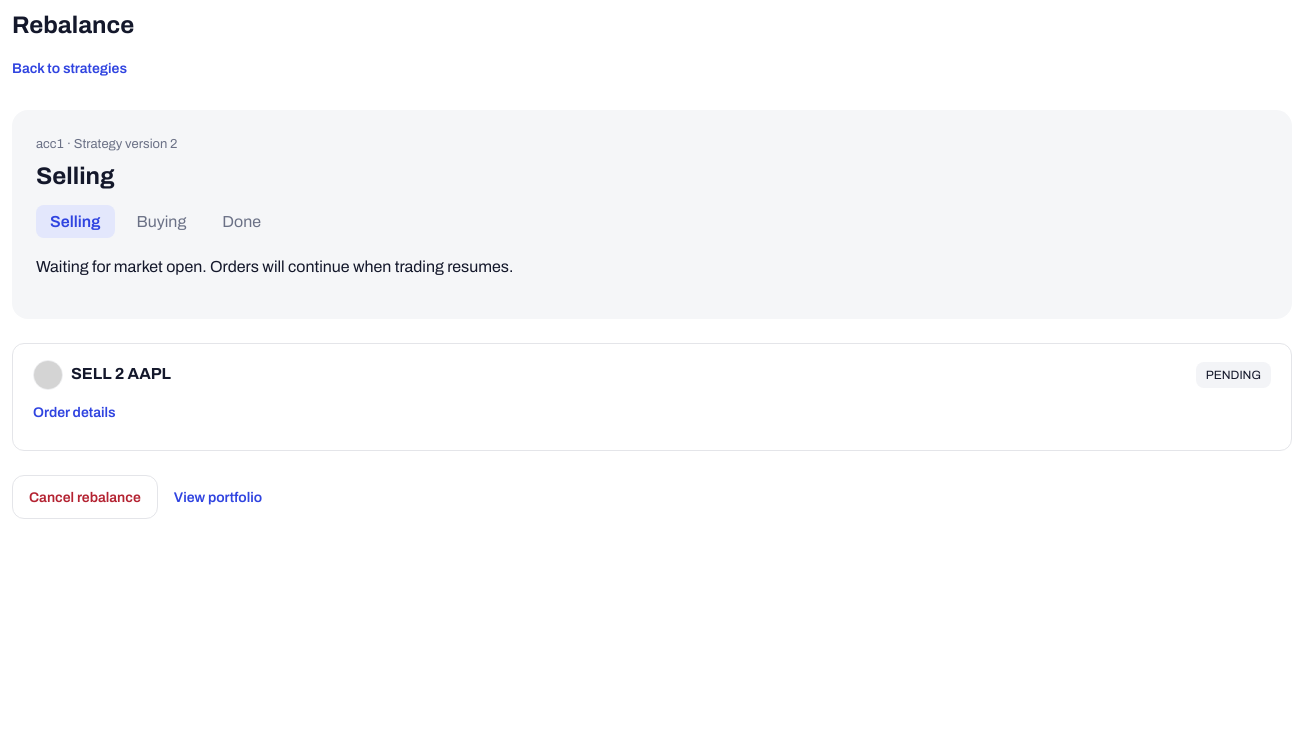
Test case: RebalanceRunComponent › shows market closed and cancels pending orders
Click the button "Cancel rebalance" at (85, 497), box [12,475,158,519]
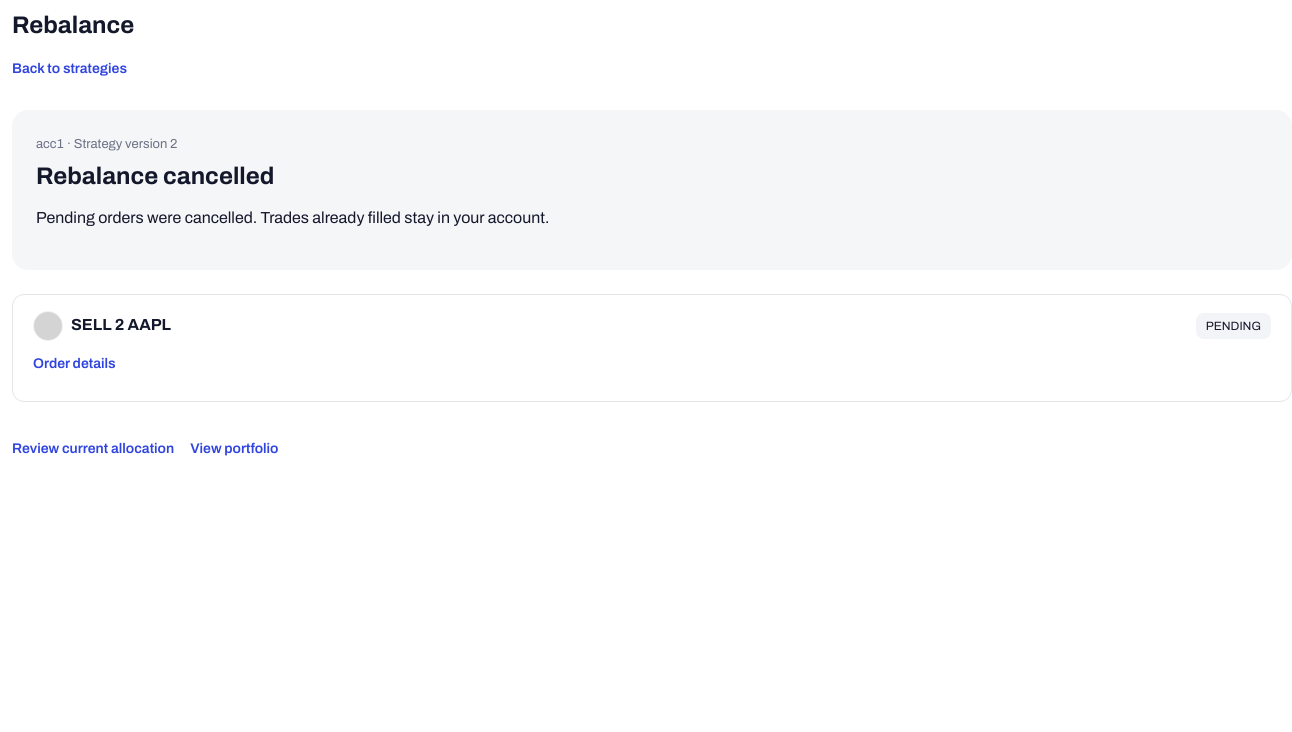
Now the heading "Rebalance cancelled" is shown, box [36,163,274,189]
Now the button "Cancel rebalance" is gone
